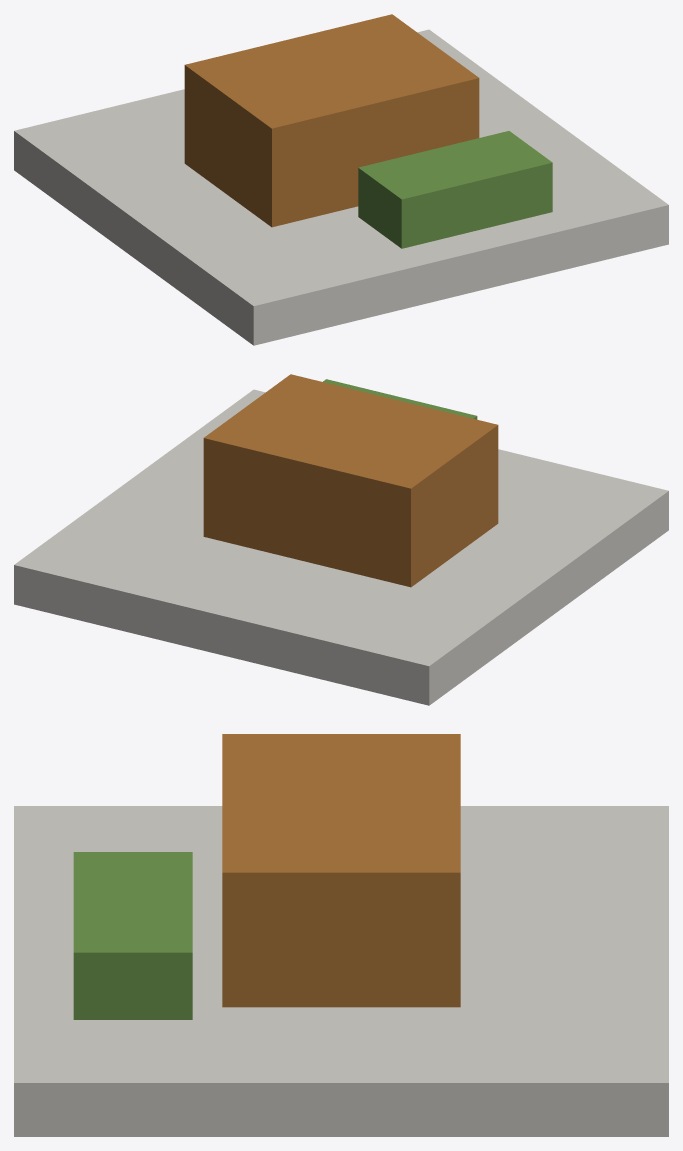
Rendered from ld-plate.glb.
3 views of the same model, one above another, from view 1: azimuth 30°, elevation 25°; view 2: azimuth 150°, elevation 25°; view 3: azimuth 270°, elevation 25° (orthographic). The views are drawn at different scales.
Parts seen in each view (by area): view 1: box-prop; view 2: box-prop; view 3: box-prop.
Part boxes in pixels (x1=…): box-prop: x1=14, y1=14, x2=668, y2=345; box-prop: x1=14, y1=374, x2=668, y2=705; box-prop: x1=14, y1=734, x2=668, y2=1136.
Bounding box in the file's own units: 0.44 × 0.14 × 0.44.
